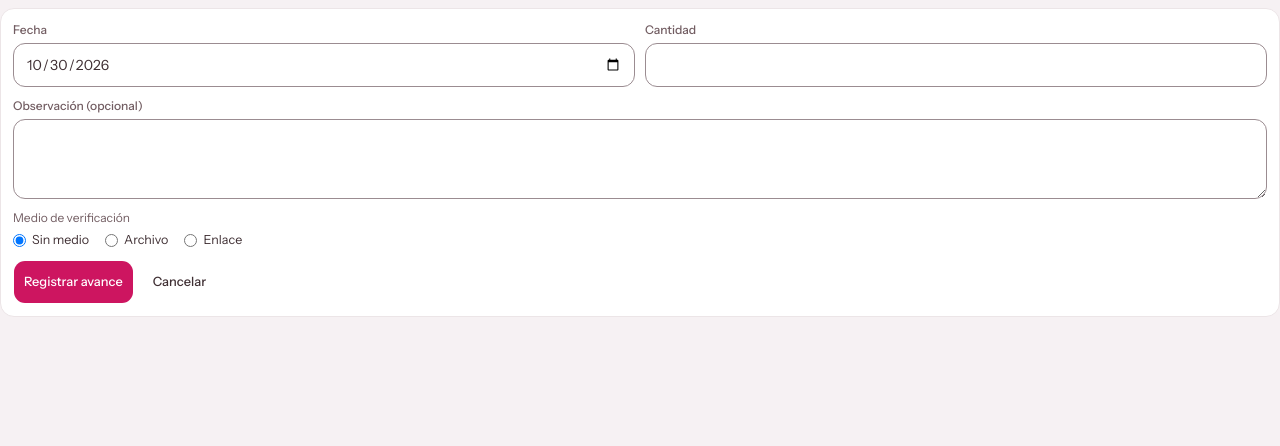
Test: EjecucionAvanceForm › reveals the excess justification only when the quantity would pass the goal
Expected: the field labelled "Justificación del exceso" is not shown
Type "0,6" into the field labelled "Cantidad" at (956, 65), box [645,43,1267,87]
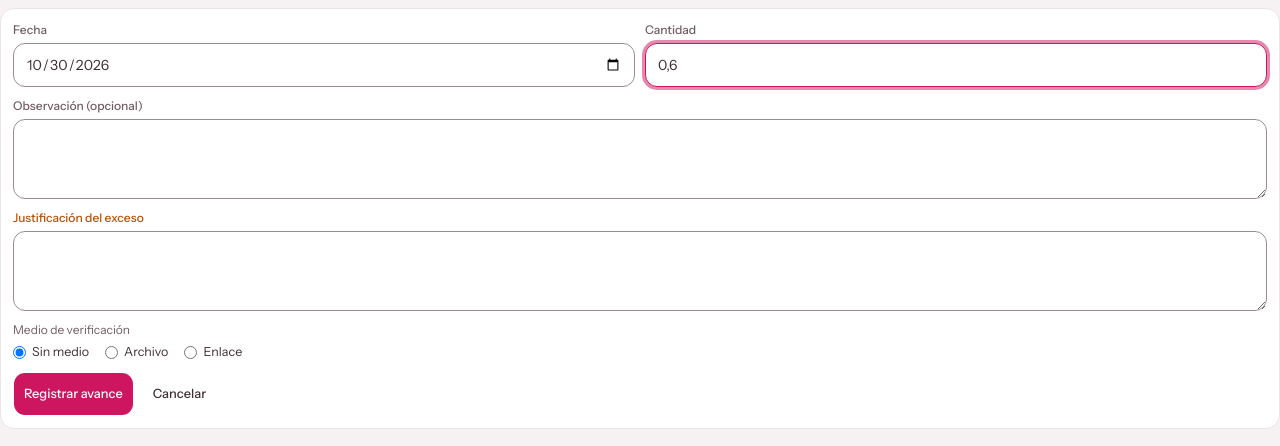
Result: the text box labelled "Justificación del exceso" is shown at [13,231,1267,311]
